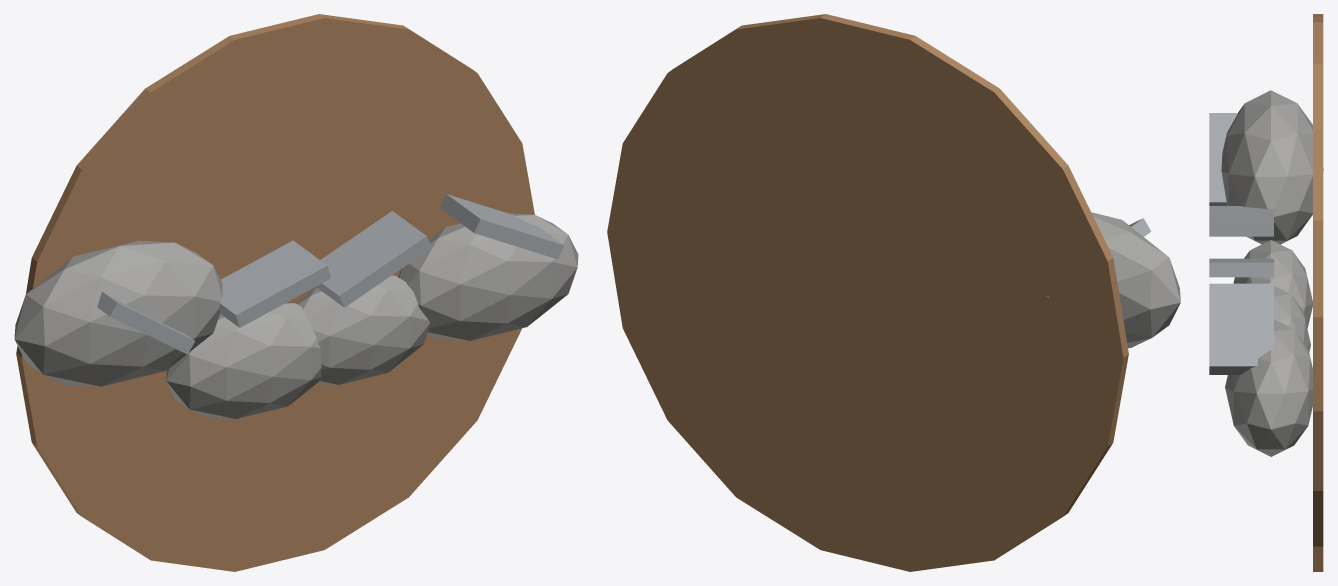
The model's file is 02_local_prop_cluster.glb.
3 views of the same model, side by side, from view 1: azimuth 30°, elevation 25°; view 2: azimuth 150°, elevation 25°; view 3: azimuth 270°, elevation 25° (orthographic). The views are drawn at different scales.
Visible parts, largest first — view 1: scatter_base, scrap_rock_0, scrap_rock_3, scrap_rock_1, scrap_rock_2, scrap_plate_2, scrap_plate_1, scrap_plate_3, scrap_plate_0; view 2: scatter_base, scrap_rock_0; view 3: scrap_rock_0, scrap_rock_3, scatter_base, scrap_plate_3, scrap_rock_1, scrap_plate_1, scrap_plate_0, scrap_plate_2, scrap_rock_2.
Part boxes in pixels (x1,y1,x2,y2): scatter_base: (16,14,534,571); scrap_rock_0: (14,240,222,386); scrap_rock_3: (398,213,578,340); scrap_rock_1: (166,303,321,418); scrap_rock_2: (296,275,429,384); scrap_plate_2: (316,211,431,307); scrap_plate_1: (219,240,330,327); scrap_plate_3: (440,194,564,259); scrap_plate_0: (97,291,195,354); scatter_base: (607,14,1128,571); scrap_rock_0: (1046,212,1180,348); scrap_rock_0: (1221,90,1323,244); scrap_rock_3: (1225,319,1312,456); scatter_base: (1313,14,1323,571); scrap_plate_3: (1209,283,1273,374); scrap_rock_1: (1233,240,1312,328); scrap_plate_1: (1209,206,1273,236); scrap_plate_0: (1209,113,1237,205); scrap_plate_2: (1209,258,1273,277); scrap_rock_2: (1274,286,1310,351).
Bounding box in the file's own units: 2.08 × 1.87 × 0.3887.
